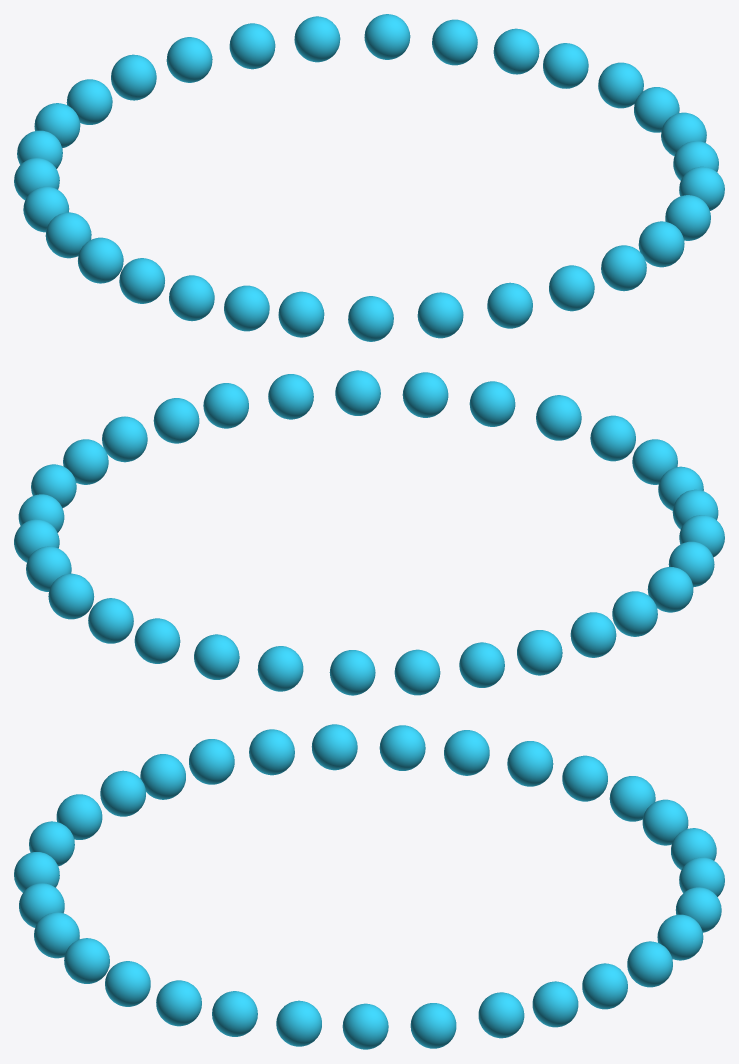
The picture shows the model from 3 angles, top to bottom: view 1: azimuth 30°, elevation 25°; view 2: azimuth 150°, elevation 25°; view 3: azimuth 270°, elevation 25°; orthographic projection.
Parts seen in each view (by area): view 1: Sphere048; view 2: Sphere048; view 3: Sphere048.
Boxes of the visible parts, <box> form: Sphere048: <box>14,14,724,341</box>; Sphere048: <box>14,370,724,695</box>; Sphere048: <box>14,724,724,1049</box>.
Size of the model in its own units: 126 by 8.22 by 127.
